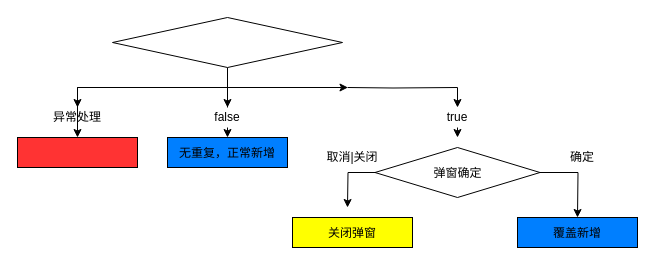
Some shapes in this 655 by 265 pixel diagram are drawn without their labels. Here are the shapes that lost their labels. From the top down, the centre of each, then its label:
point 227,42: check接口
point 77,152: 正常抛异常
